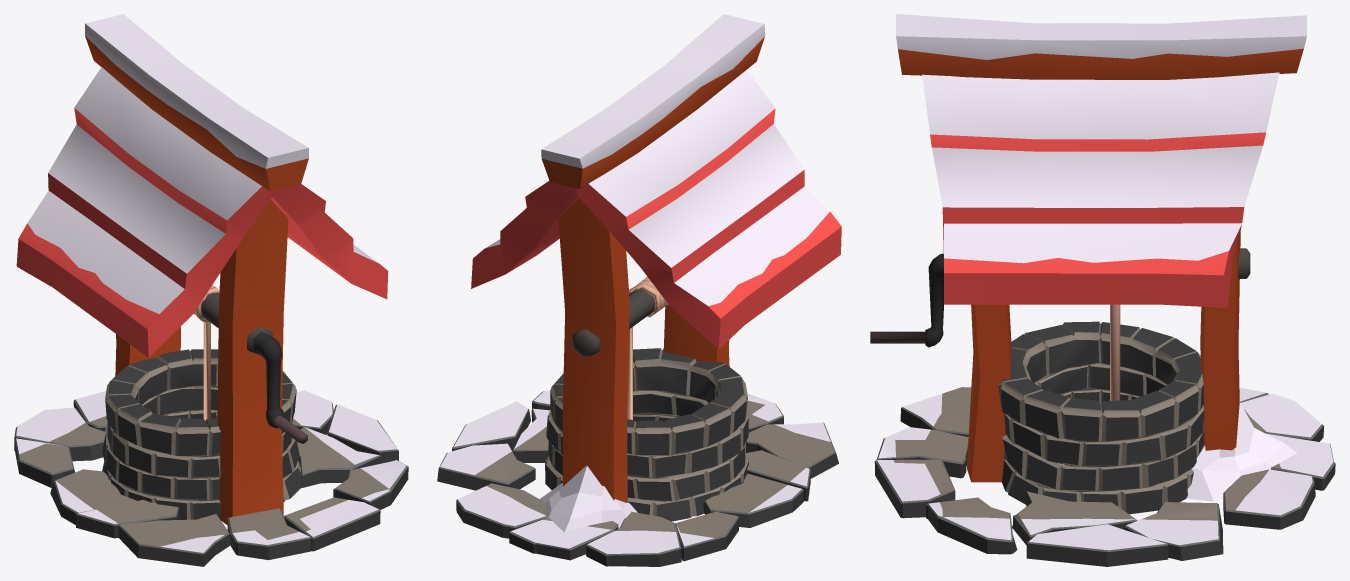
File: low_poly_medieval_waterhole_with_snow.glb
The picture shows the model from 3 angles, left to right: view 1: azimuth 30°, elevation 25°; view 2: azimuth 150°, elevation 25°; view 3: azimuth 270°, elevation 25°; orthographic projection. The views are drawn at different scales.
Parts seen in each view (by area): view 1: Waterhole; view 2: Waterhole; view 3: Waterhole.
Boxes of the visible parts, x1,y1,x2,y2 form: Waterhole: (14,14,408,566); Waterhole: (437,14,841,566); Waterhole: (870,14,1335,566).
Size of what is drawn, in the model's own units: 1.16 by 1.36 by 1.3.
1 material, 1 textured.
